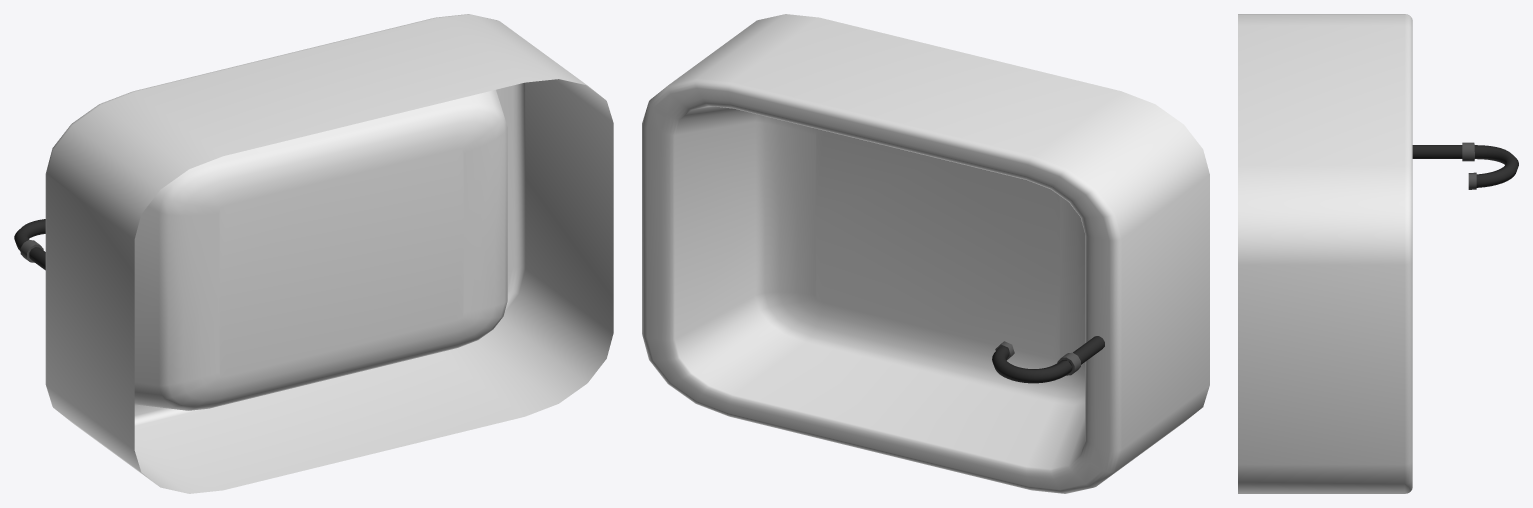
Rendered from Tub.fbx.
3 renders of one model, left to right at view 1: azimuth 30°, elevation 25°; view 2: azimuth 150°, elevation 25°; view 3: azimuth 270°, elevation 25°, orthographic. The views are drawn at different scales.
Parts seen in each view (by area): view 1: tub; view 2: tub; view 3: tub.
Part boxes in pixels (x1,y1,x2,y2): tub: [14, 14, 613, 493]; tub: [642, 14, 1209, 493]; tub: [1238, 14, 1518, 493].
Bounding box in the file's own units: 1.5 × 0.8049 × 1.
